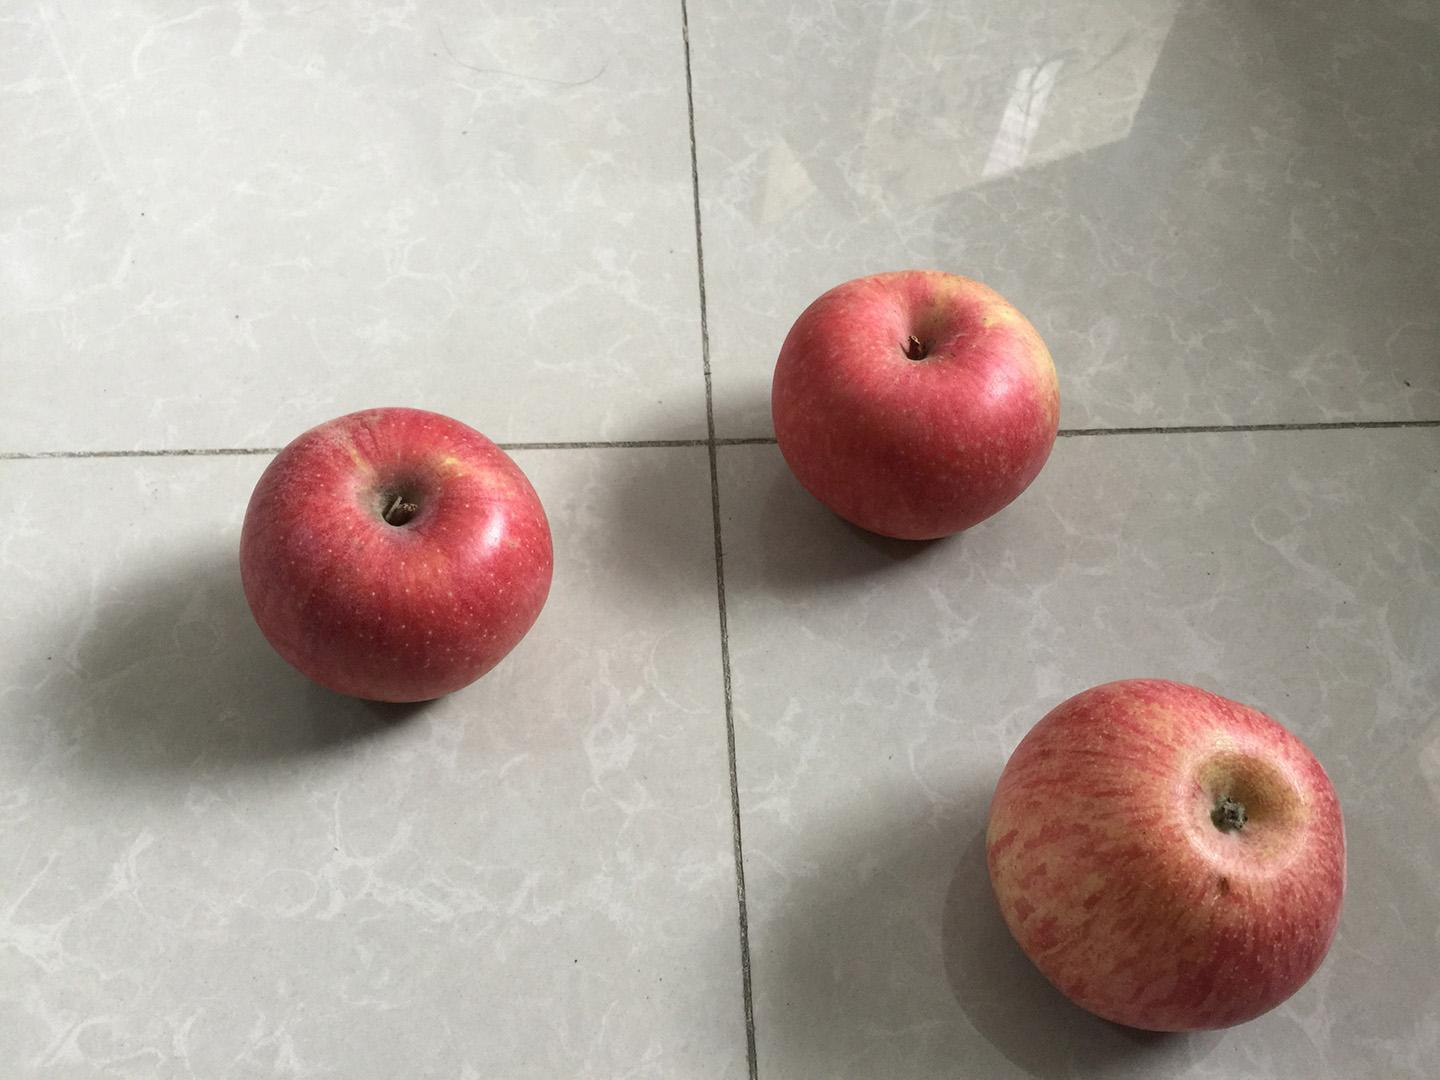apple: (972, 661, 1364, 1039), (231, 400, 567, 715), (749, 256, 1086, 555)
